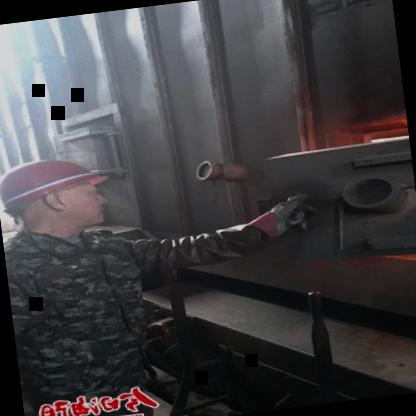helmet: (0, 134, 129, 252)
